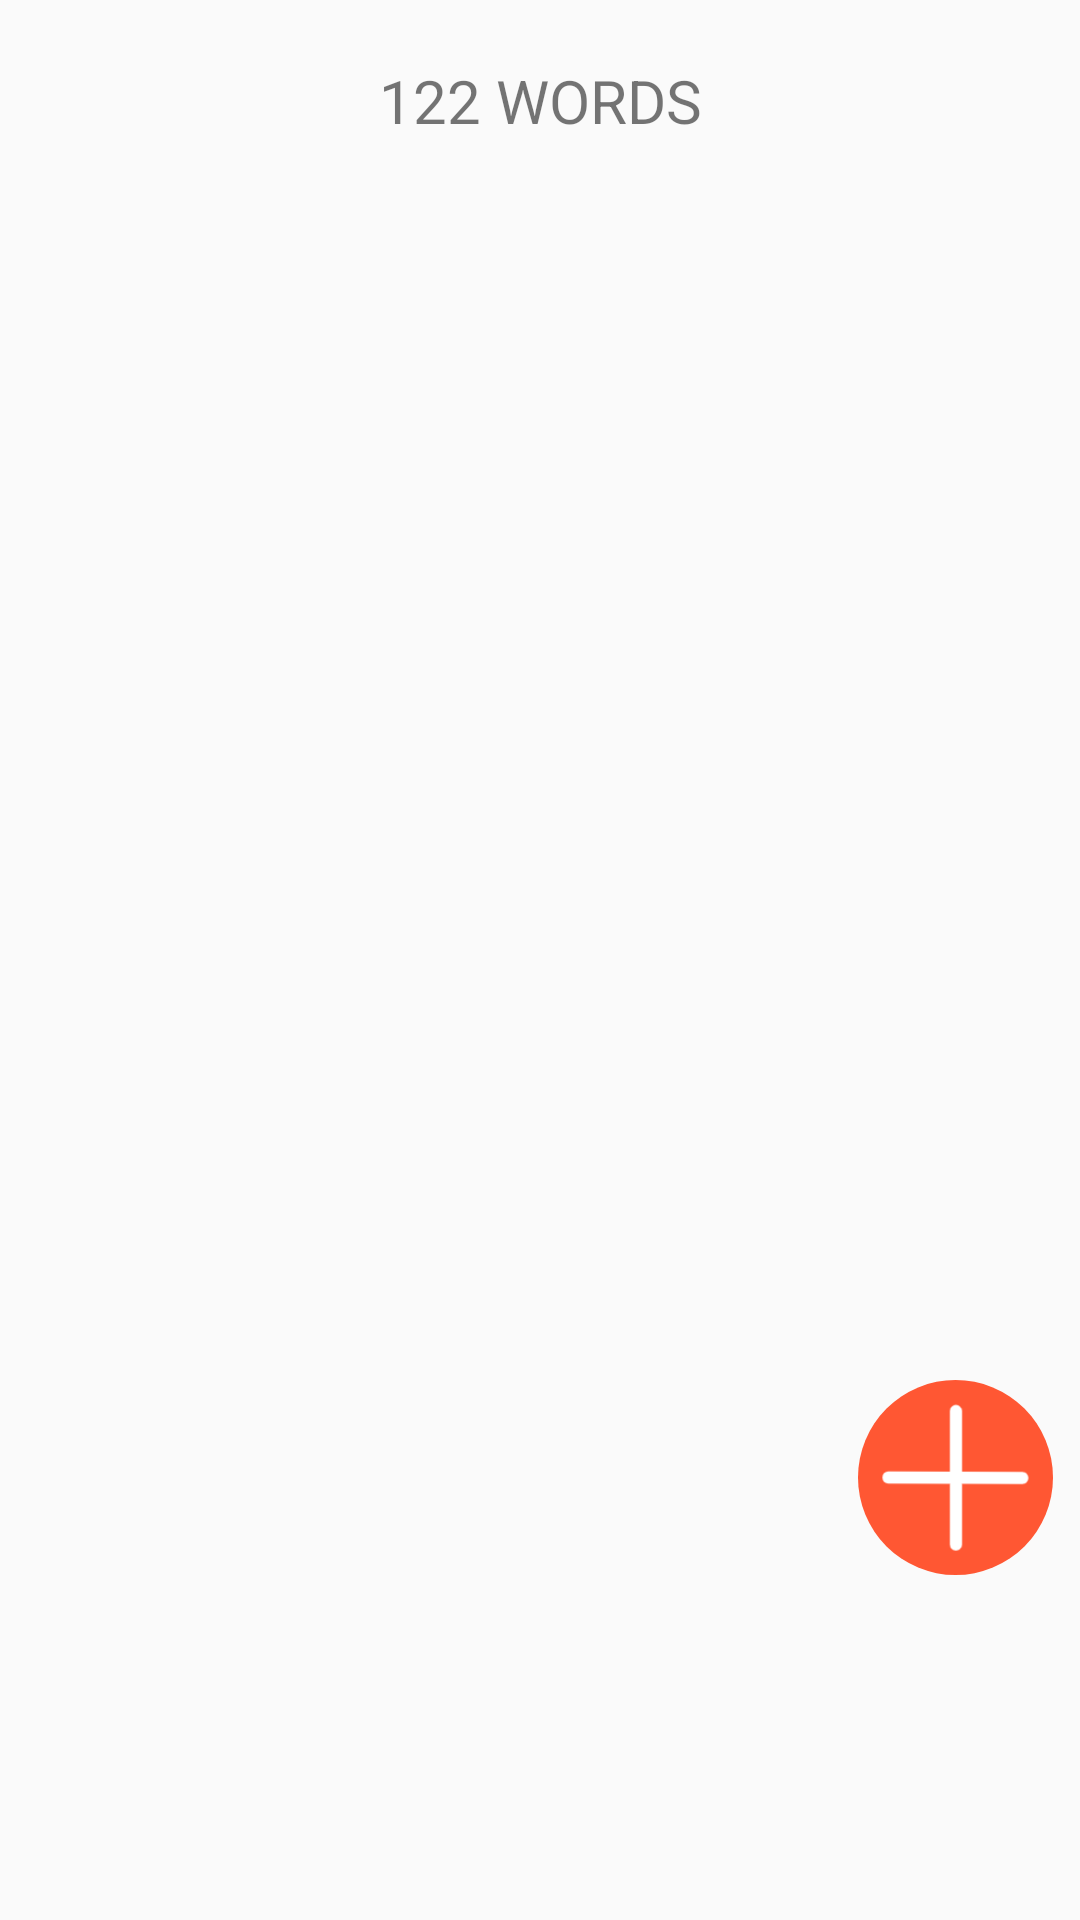

Where to tap for icons on this 1080w x 1920h app screen, as point (x, y):
add: point (955, 1477)
